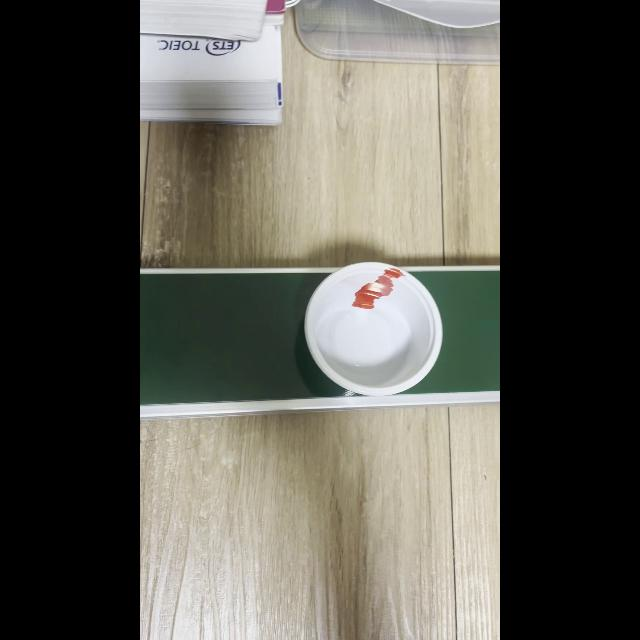dirty: (308, 266, 436, 388)
